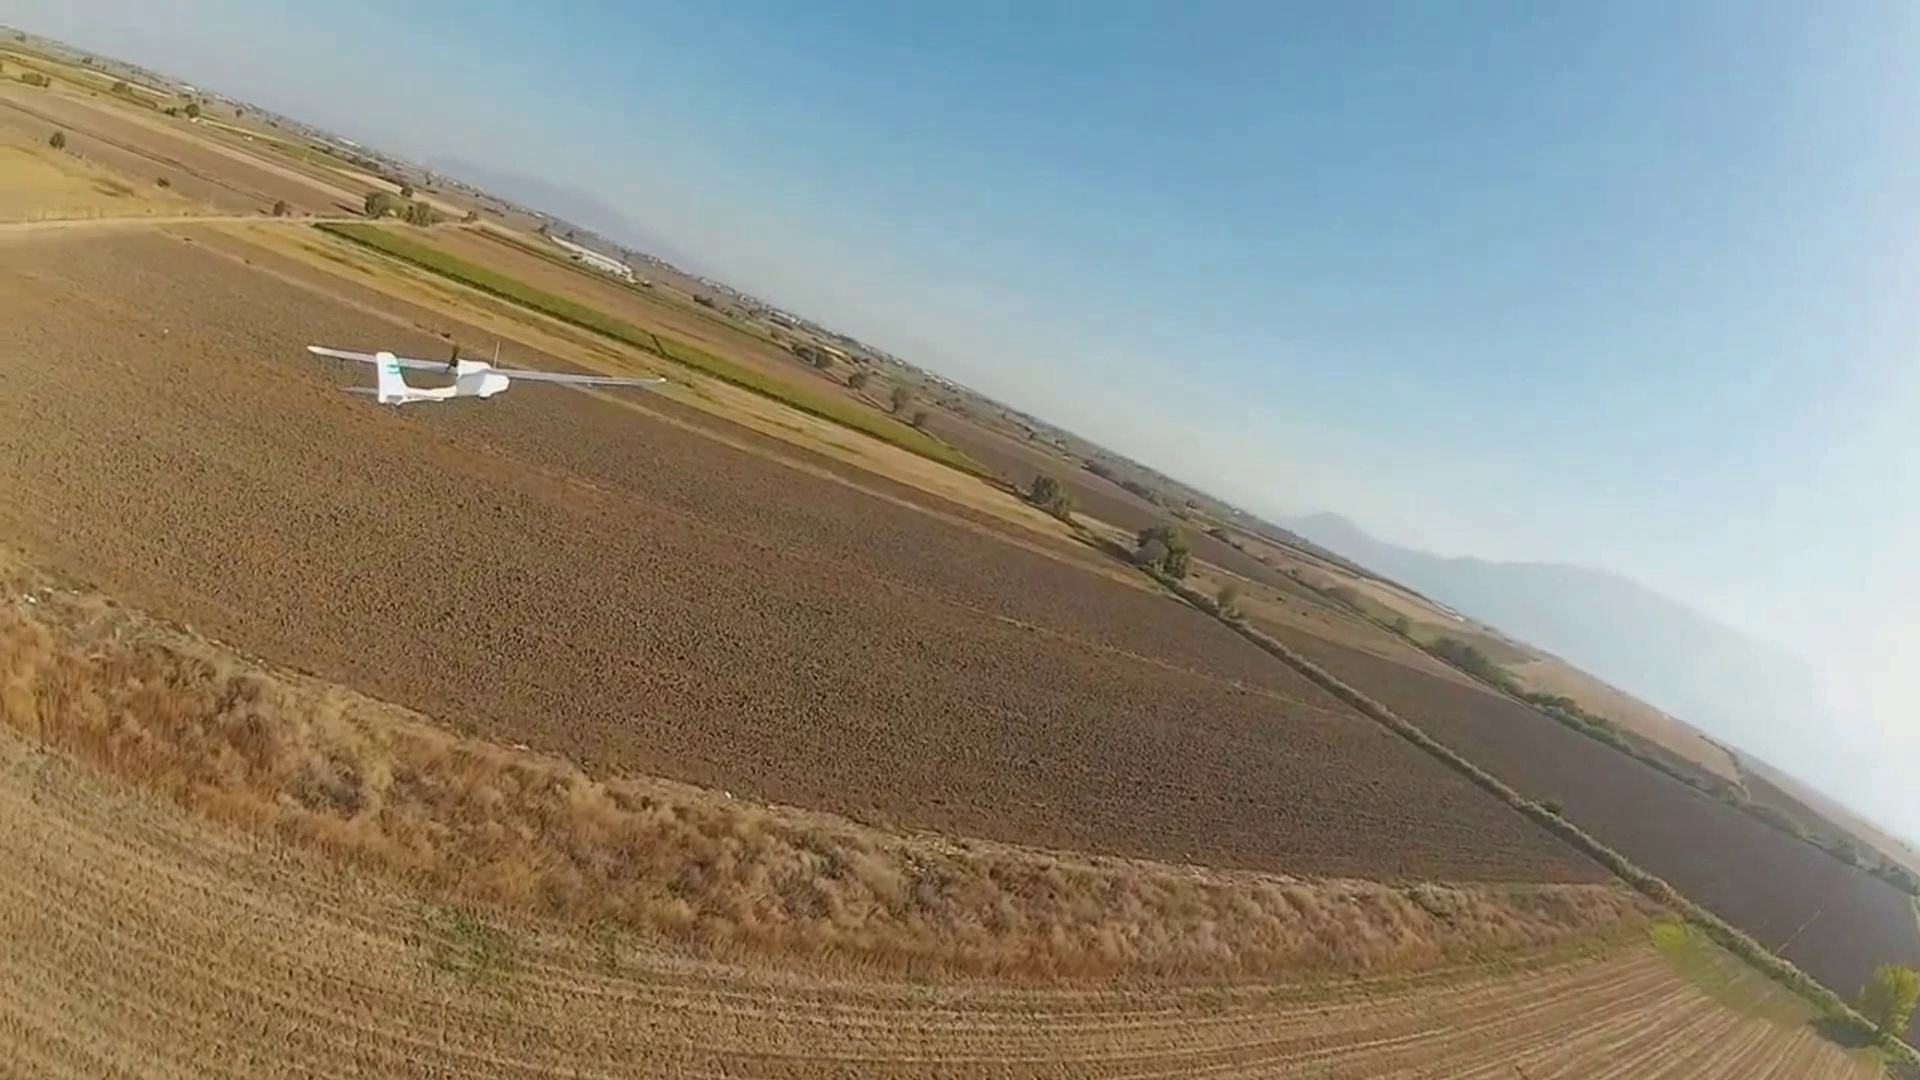airplane: (305, 344, 509, 404)
